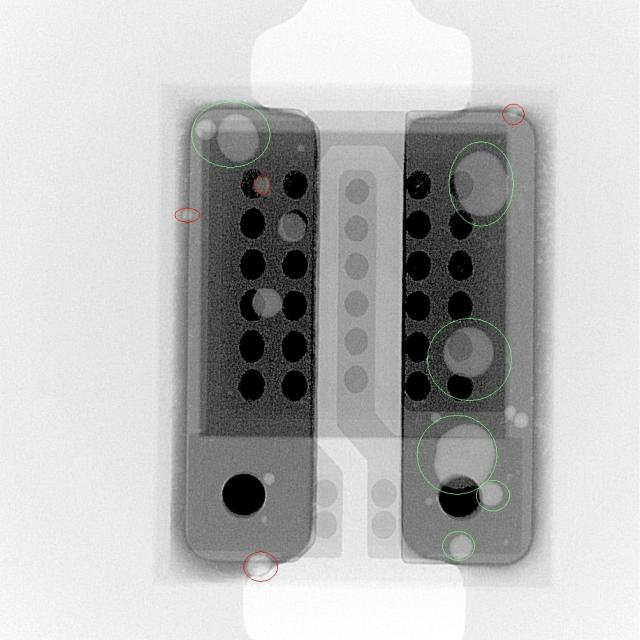component: (399, 107, 536, 562), (186, 104, 319, 563)
void: (435, 425, 497, 485), (455, 150, 510, 216), (444, 327, 495, 378), (217, 113, 259, 164), (241, 169, 271, 199), (278, 212, 307, 242), (252, 289, 282, 318), (480, 482, 506, 509), (449, 534, 474, 561), (505, 405, 530, 429), (194, 119, 216, 140), (263, 473, 275, 486), (431, 413, 442, 422), (298, 145, 305, 151)
